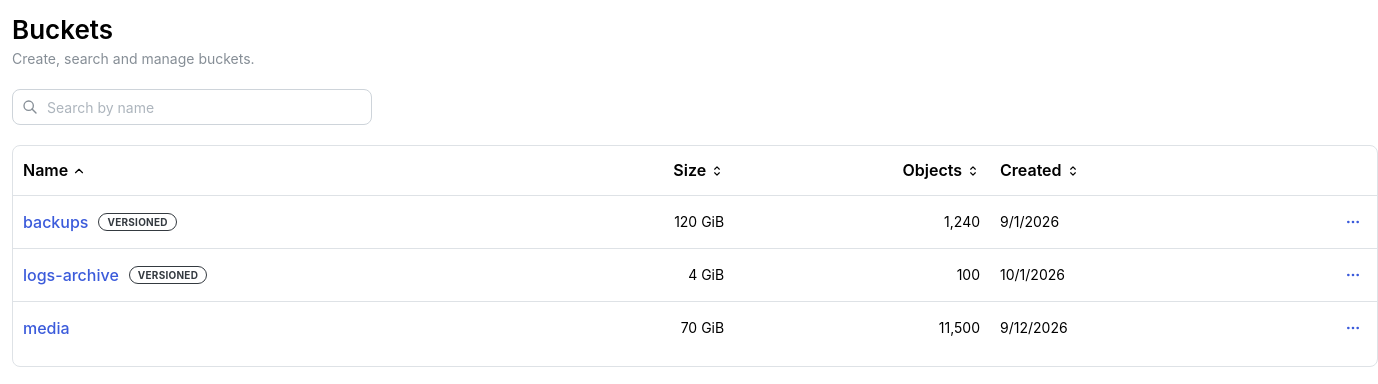
BucketsPage permissions (TD-U-09) › hides creation and disables deletion for a read-only user
Expected: the link "media" is shown, [23,316,70,341]
Click the button named "Actions for media".
click(1353, 328)  # box [1339,314,1367,342]
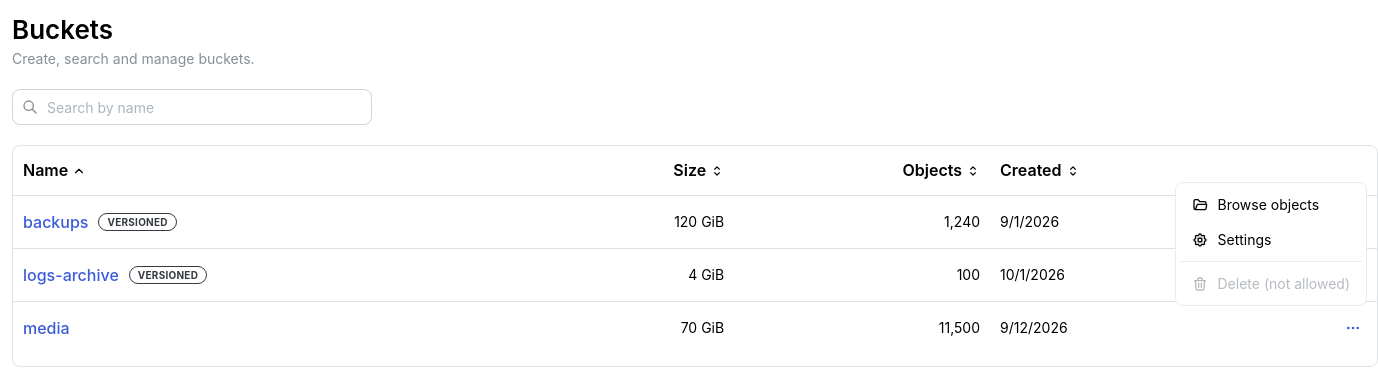
Now the menu item "Delete (not allowed)" is disabled, box [1180,266,1362,301]
